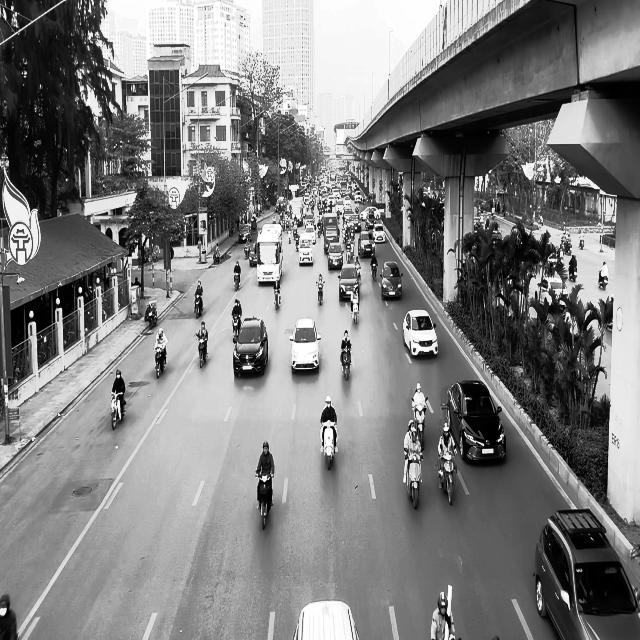car: (533, 508, 640, 640), (446, 379, 506, 463), (292, 600, 360, 640), (233, 316, 268, 377), (289, 317, 321, 373), (402, 309, 438, 357), (380, 260, 403, 300), (338, 264, 359, 301), (358, 231, 375, 257), (327, 242, 343, 269)
motorbike: (404, 448, 424, 509), (255, 470, 274, 529), (437, 450, 457, 505), (411, 396, 428, 450), (320, 420, 338, 470), (110, 390, 126, 430), (195, 332, 208, 368), (340, 346, 351, 380), (155, 347, 166, 378), (350, 290, 359, 324), (597, 265, 608, 289), (232, 314, 241, 342), (273, 284, 281, 310), (370, 256, 378, 280), (194, 294, 202, 318), (316, 280, 324, 304), (234, 272, 240, 291)
